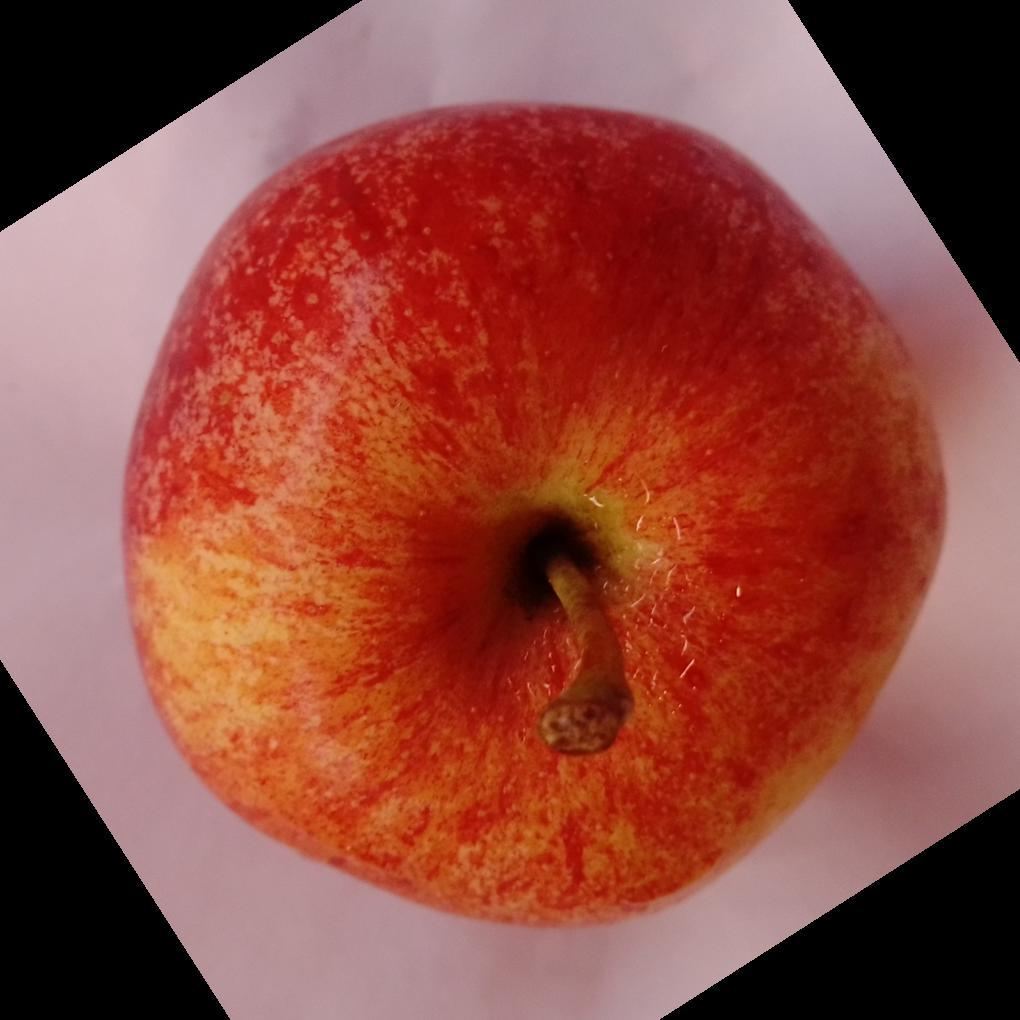FreshGuava: (120, 103, 949, 933)
